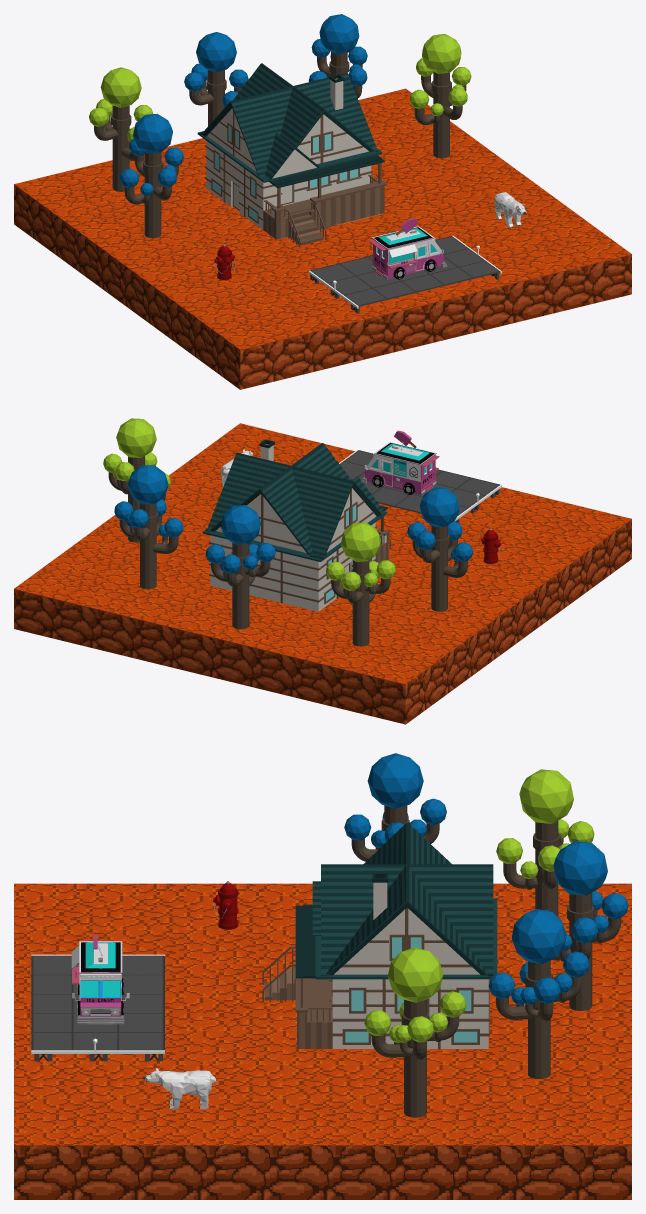
3 views of the same model, one above another, from view 1: azimuth 30°, elevation 25°; view 2: azimuth 150°, elevation 25°; view 3: azimuth 270°, elevation 25° (orthographic). The views are drawn at different scales.
Visible parts, largest first — view 1: Cube.001, Cube.793, VEHICLES_ICE_CREAM_TRUCK, ANIMAL_OSO_POLAR, OBJRANDOM_FIRE_HYDRANT; view 2: Cube.001, Cube.793, VEHICLES_ICE_CREAM_TRUCK, OBJRANDOM_FIRE_HYDRANT; view 3: Cube.001, Cube.793, VEHICLES_ICE_CREAM_TRUCK, ANIMAL_OSO_POLAR, OBJRANDOM_FIRE_HYDRANT.
Boxes of the visible parts, <box> form: Cube.001: <box>14,14,631,389</box>; Cube.793: <box>197,63,387,246</box>; VEHICLES_ICE_CREAM_TRUCK: <box>369,218,447,279</box>; ANIMAL_OSO_POLAR: <box>494,192,526,228</box>; OBJRANDOM_FIRE_HYDRANT: <box>214,244,235,279</box>; Cube.001: <box>14,418,631,724</box>; Cube.793: <box>202,439,390,611</box>; VEHICLES_ICE_CREAM_TRUCK: <box>361,430,439,494</box>; OBJRANDOM_FIRE_HYDRANT: <box>481,528,501,563</box>; Cube.001: <box>14,753,631,1199</box>; Cube.793: <box>262,823,497,1049</box>; VEHICLES_ICE_CREAM_TRUCK: <box>71,934,129,1024</box>; ANIMAL_OSO_POLAR: <box>142,1068,215,1109</box>; OBJRANDOM_FIRE_HYDRANT: <box>213,881,238,929</box>.
Bounding box in the file's own units: 4000 × 1663 × 4000.
Materials: 36 (5 with a texture image).
